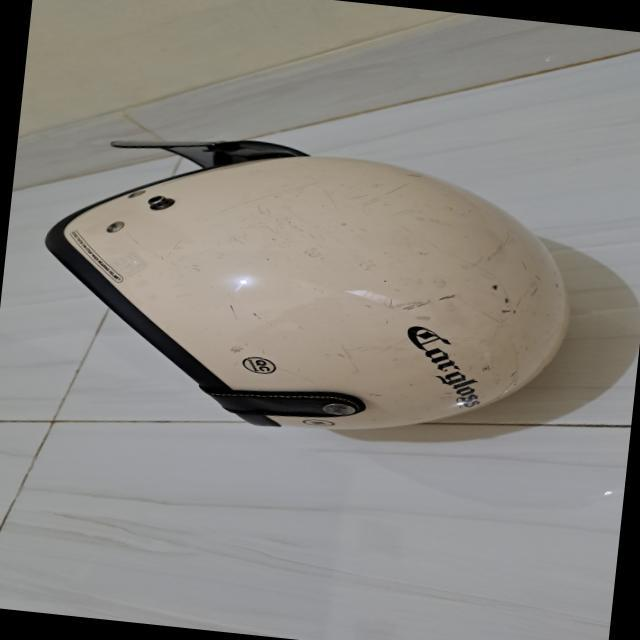Helm: (16, 112, 606, 466)
